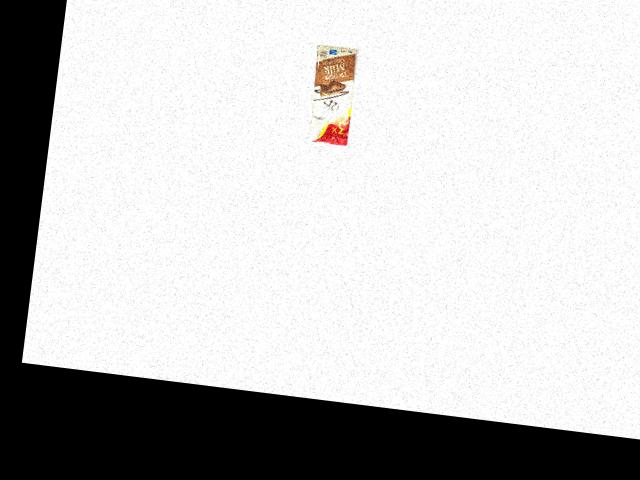chocolate: (303, 46, 362, 148)
